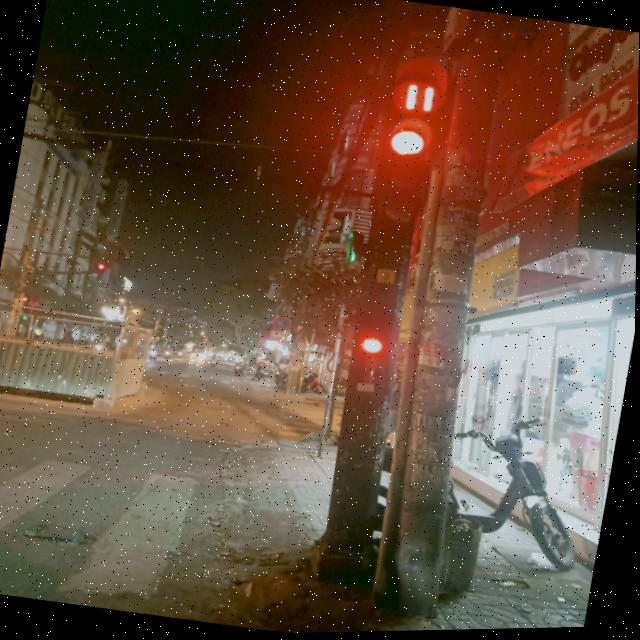Red: (366, 114, 440, 240), (341, 318, 401, 404)
